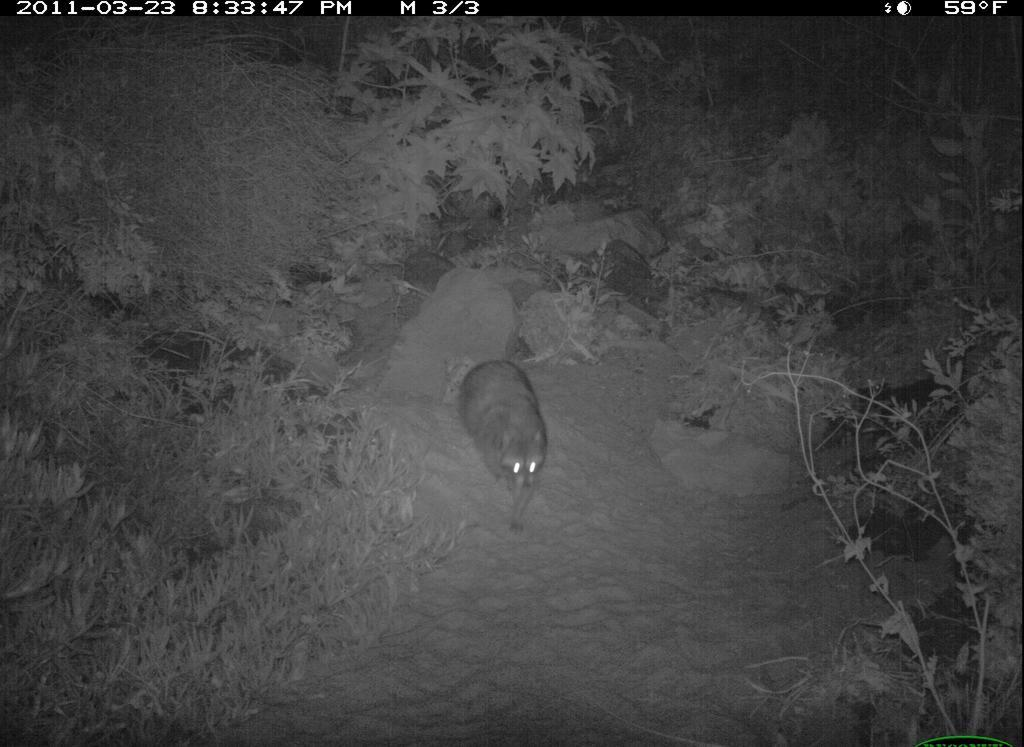raccoon: (455, 350, 553, 538)
